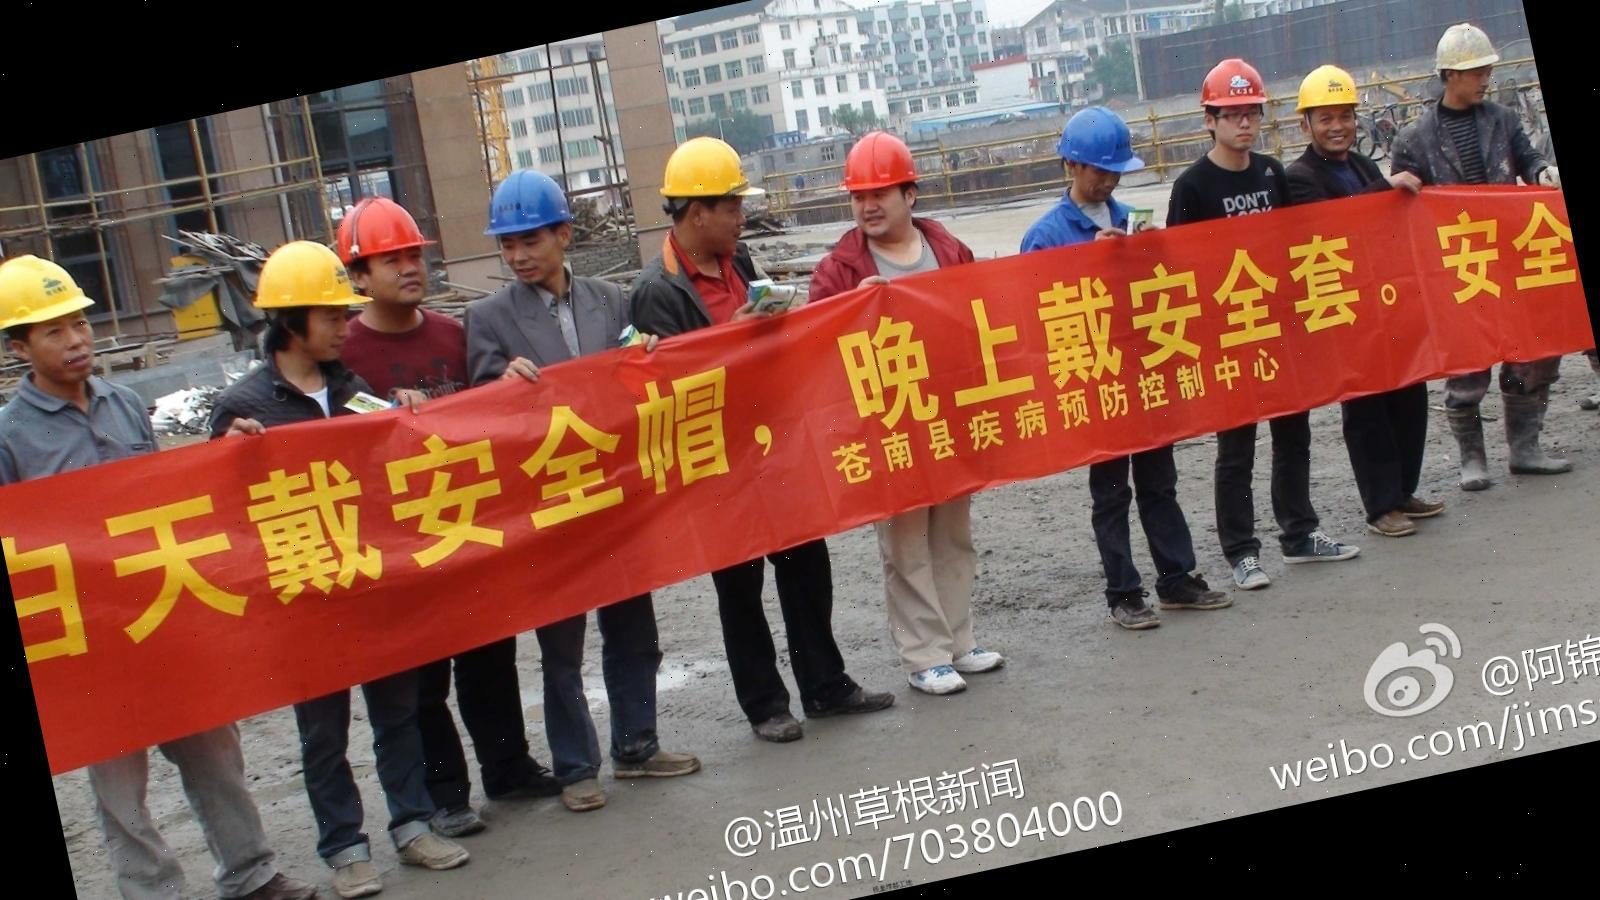helmet: (238, 227, 368, 326), (0, 241, 104, 346), (469, 157, 590, 244), (647, 124, 759, 214), (326, 187, 440, 273), (1048, 99, 1140, 182), (833, 124, 924, 201), (1192, 49, 1281, 118), (1282, 57, 1365, 120), (1425, 14, 1504, 79)
